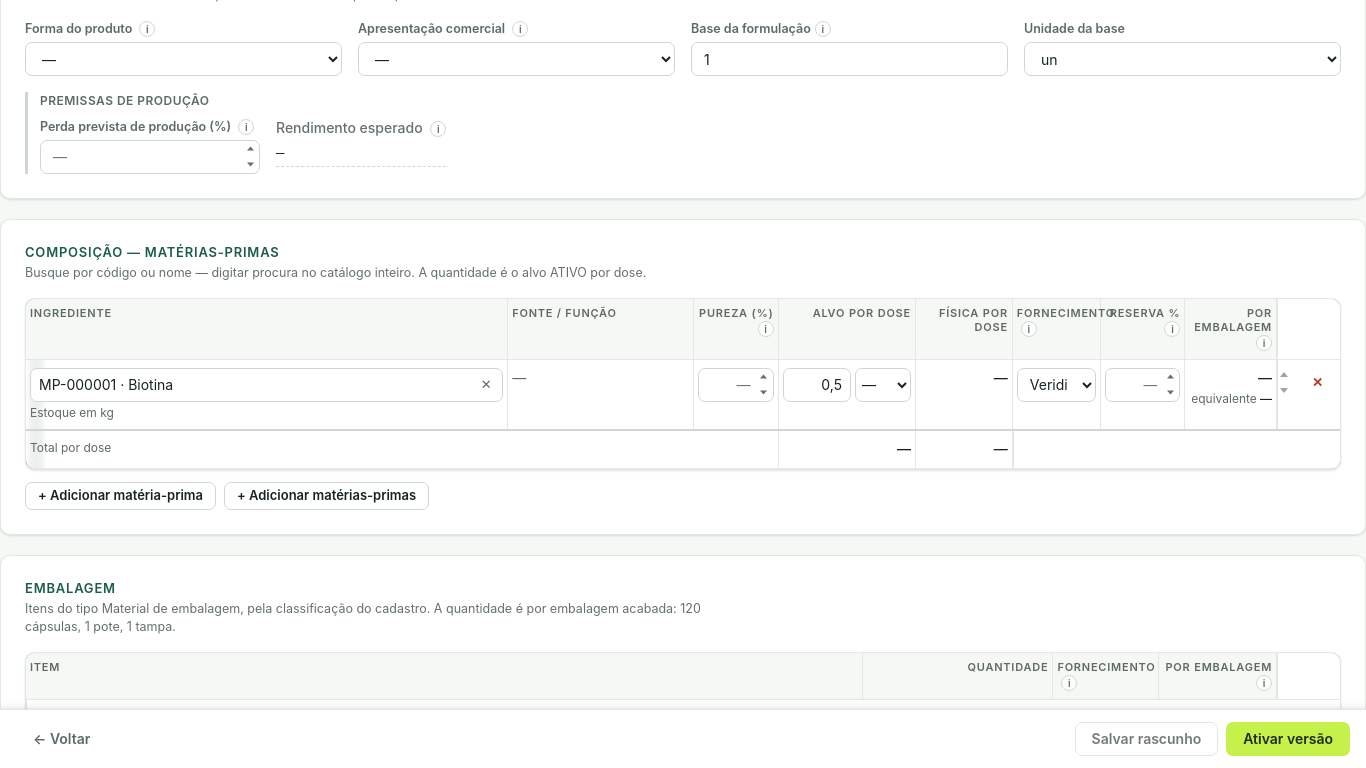
Test: Modelo de Formulação — guarda de alterações não salvas › alterar a quantidade física de um componente pergunta antes de sair
(page scrolled)
Step 1. Replace the text in the field named "Quantidade de MP-000001" with "0,8" → (817,385), box [783, 368, 851, 402]
(page scrolled)
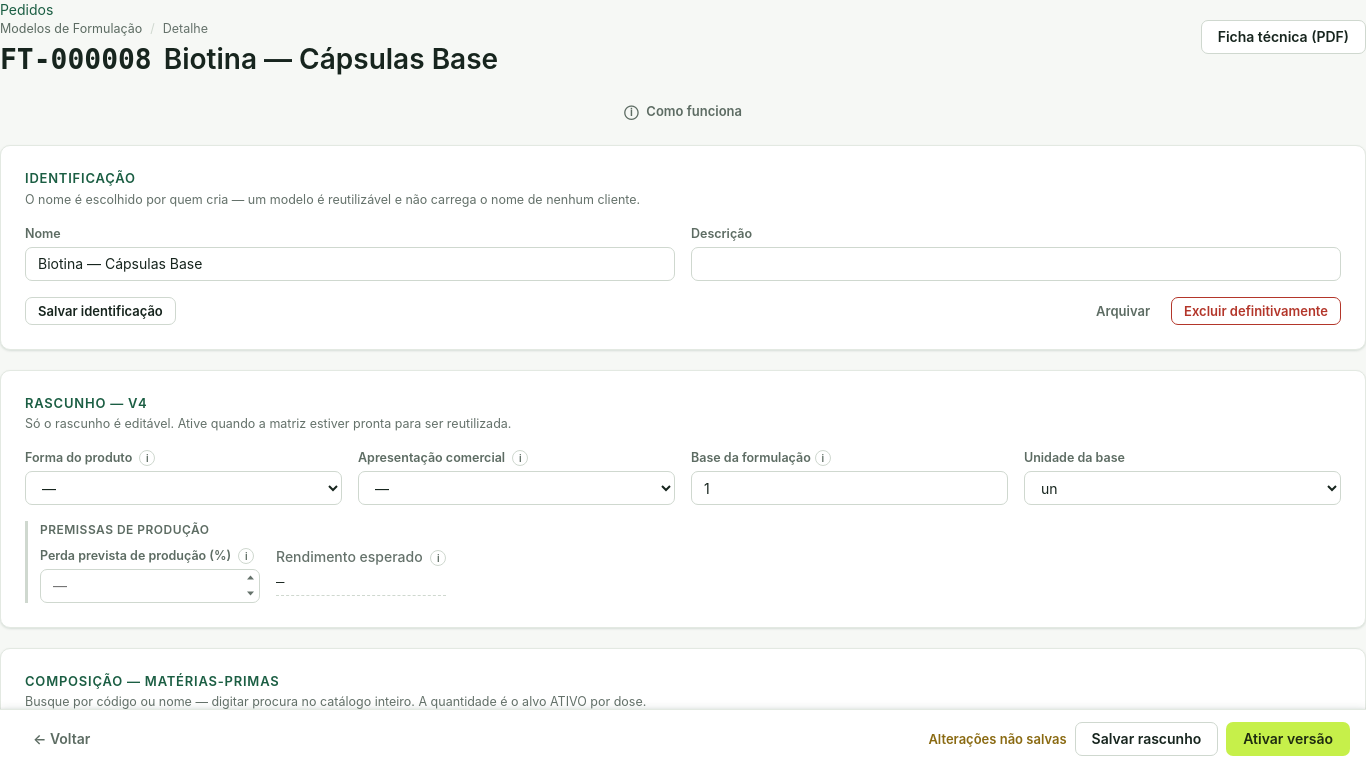
Step 2. Click the link "Pedidos" → (27,10), box [0, 1, 53, 18]
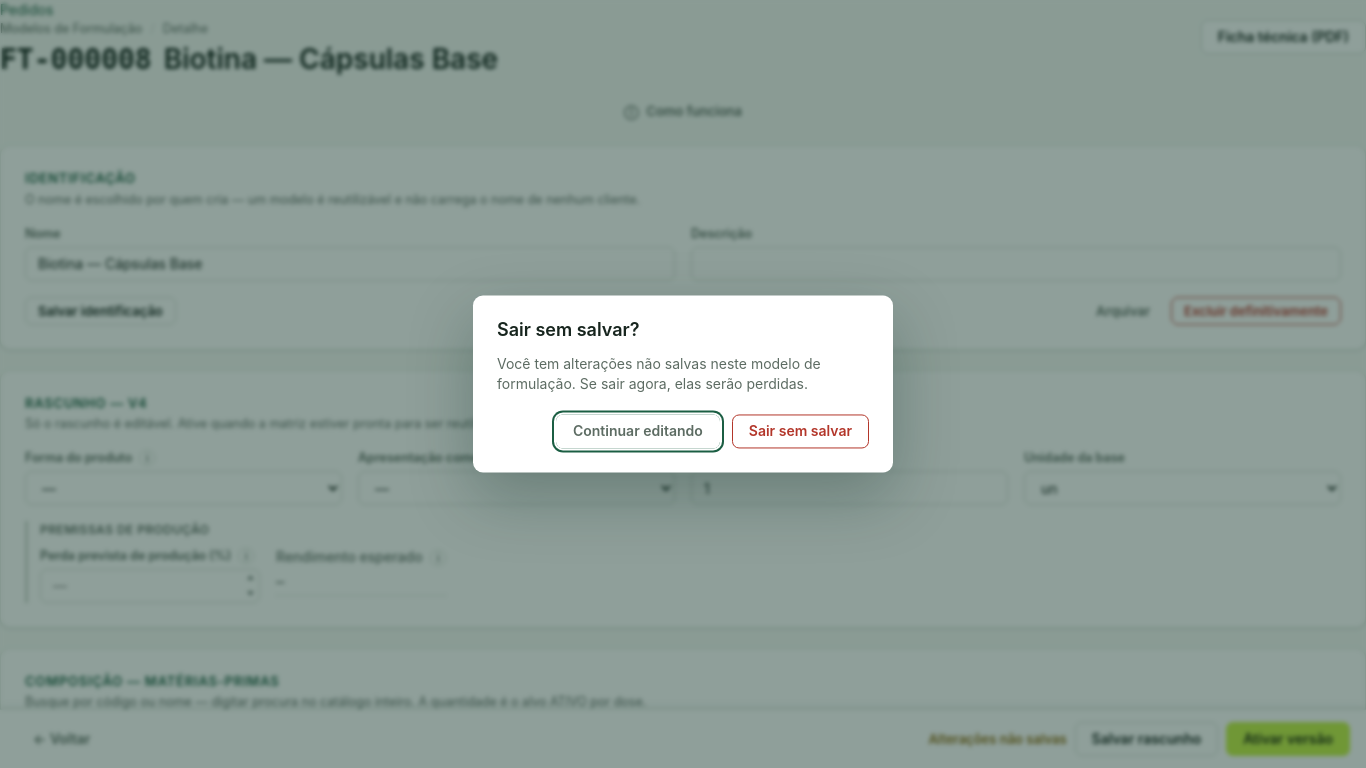
Expected: the heading "Sair sem salvar?" is shown, [497, 320, 640, 340]
Expected: the text "alterações não salvas neste modelo de formulação" is shown, [497, 354, 869, 395]
